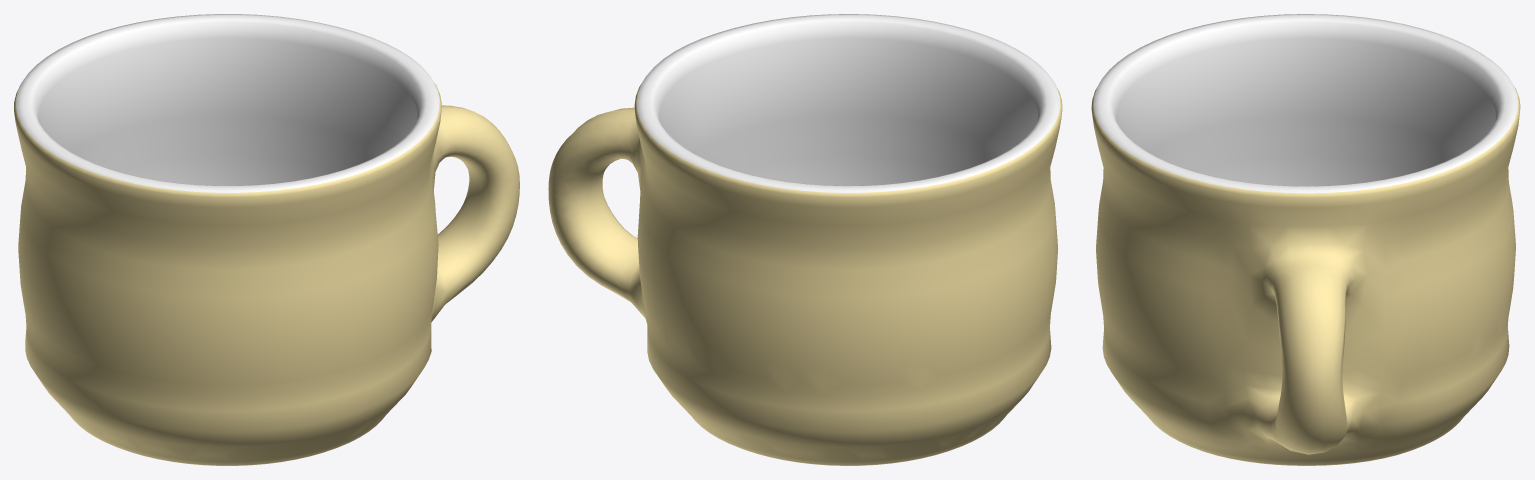
The model's file is coffee_mug.glb.
3 renders of one model, left to right at view 1: azimuth 30°, elevation 25°; view 2: azimuth 150°, elevation 25°; view 3: azimuth 270°, elevation 25°, orthographic.
Parts seen in each view (by area): view 1: Mug.009_ceramic yellow_0, Mug.009_ceramic white_0; view 2: Mug.009_ceramic yellow_0, Mug.009_ceramic white_0; view 3: Mug.009_ceramic yellow_0, Mug.009_ceramic white_0.
Part boxes in pixels (x1,y1,x2,y2): Mug.009_ceramic yellow_0: (14,82,519,465); Mug.009_ceramic white_0: (16,14,439,192); Mug.009_ceramic yellow_0: (548,78,1062,465); Mug.009_ceramic white_0: (636,14,1060,192); Mug.009_ceramic yellow_0: (1091,86,1520,465); Mug.009_ceramic white_0: (1093,14,1518,193).
Size of the model in its own units: 0.1018 by 0.0607 by 0.0789.
